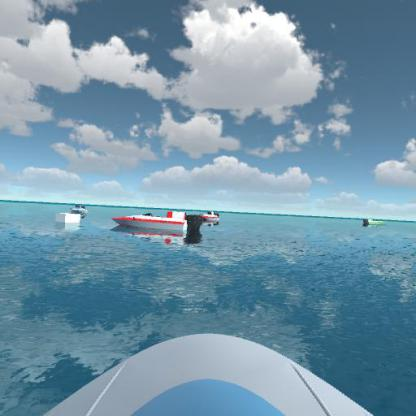usv0: (361, 213, 387, 232)
usv1: (68, 201, 92, 217)
usv3: (112, 208, 205, 246), (200, 206, 225, 228)
